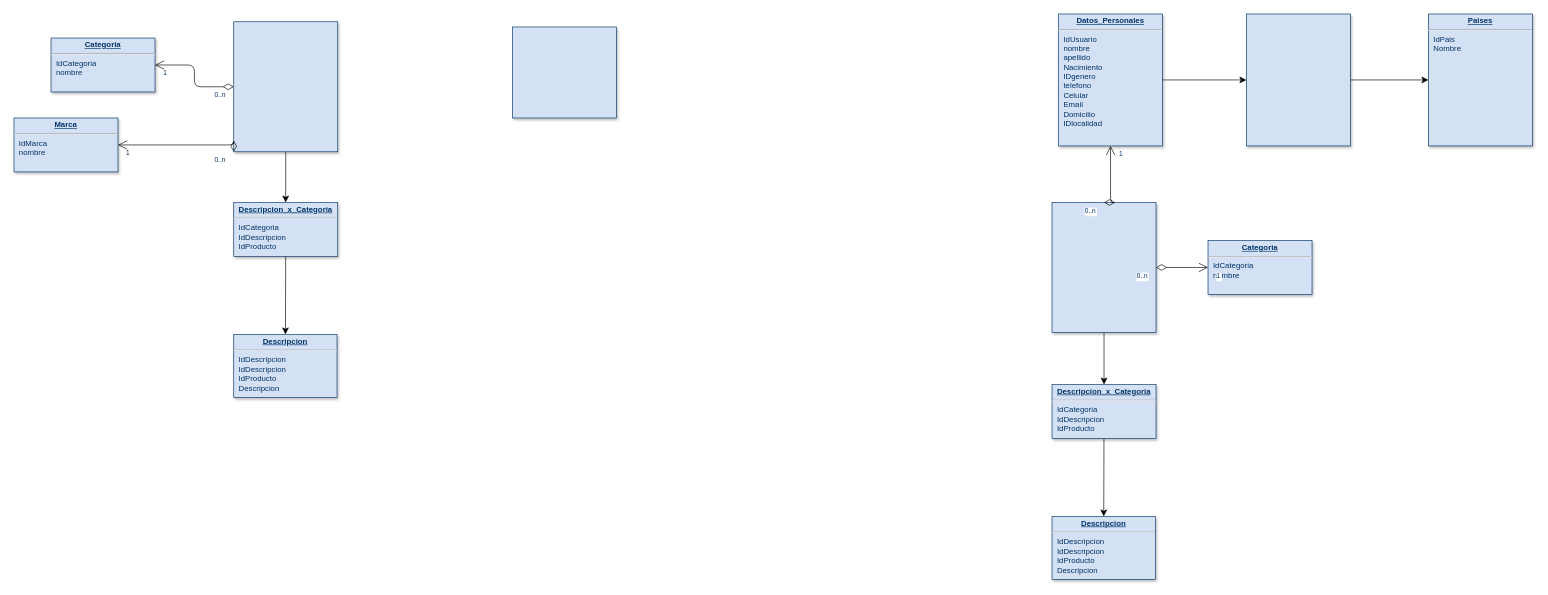
Some shapes in this 1548 by 595 pixel diagram are drawn without their labels. The shapes that lost their labels are listed below. From the top down, each one's centre as x and y in pixels, then its label:
point (286, 87): Productos IdProducto IdCategoria IdMarca Nombre Description Precio Stock
point (564, 73): Carrito IdUsuario IdProducto
point (1298, 80): Localidades Idlocalidad IdPais Nombre
point (1104, 268): Usuario IdUsuario Datos_Personales Contraseña
